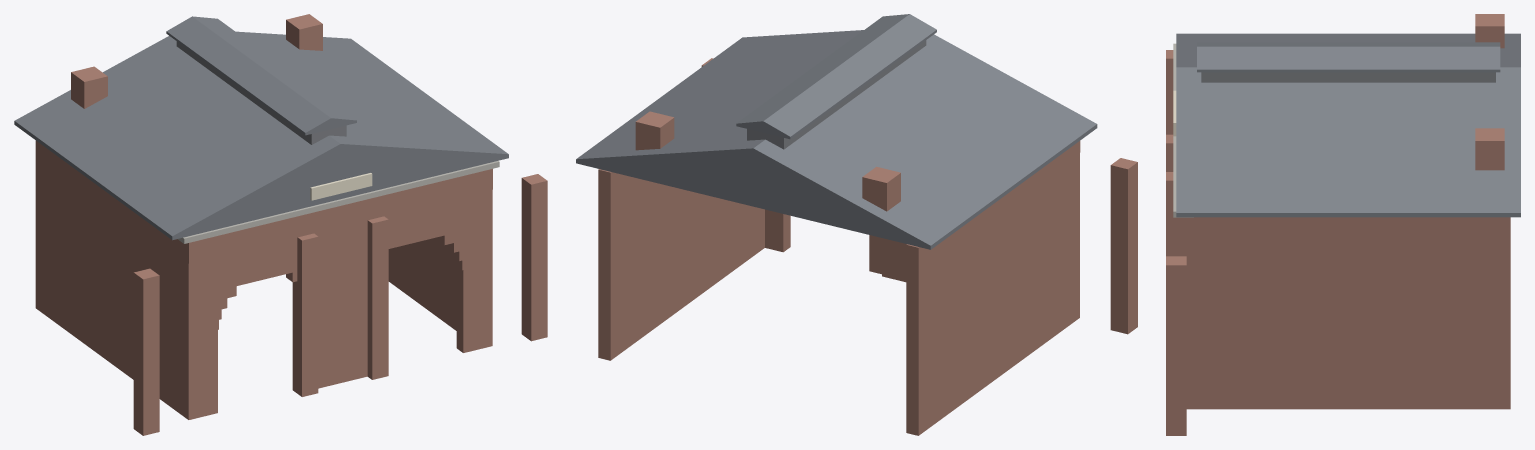
Rendered from steam-era-railway-and-rolling-stock-engine-shed-fronta-98c208ea.glb.
The picture shows the model from 3 angles, left to right: view 1: azimuth 30°, elevation 25°; view 2: azimuth 150°, elevation 25°; view 3: azimuth 270°, elevation 25°; orthographic projection. The views are drawn at different scales.
Parts seen in each view (by area): view 1: engine-shed-frontage; view 2: engine-shed-frontage; view 3: engine-shed-frontage.
Part boxes in pixels (x1,y1,x2,y2): engine-shed-frontage: [14, 14, 547, 435]; engine-shed-frontage: [576, 14, 1137, 435]; engine-shed-frontage: [1166, 14, 1520, 435].
Bounding box in the file's own units: 17.3 × 10.55 × 12.05.
